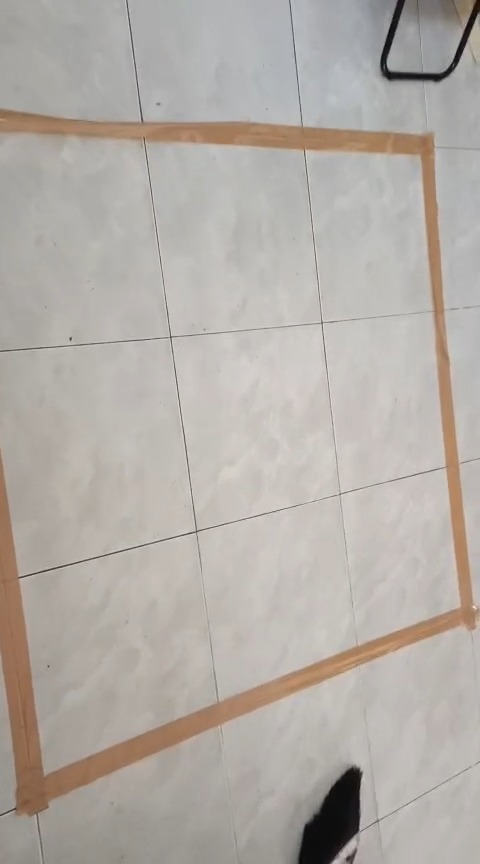floor marking: (0, 109, 476, 814)
